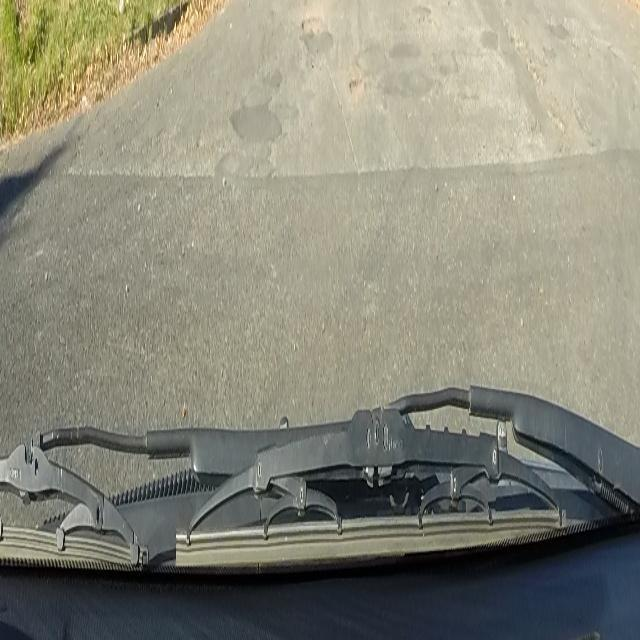pothole: (301, 10, 322, 34), (347, 76, 365, 100)
